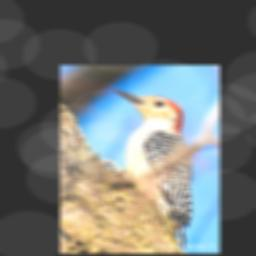Woodpecker: (112, 87, 192, 250)
